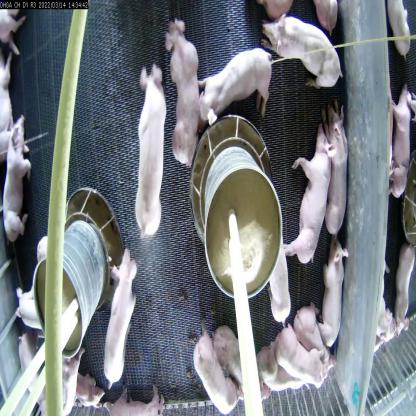Pig: (263, 6, 344, 98), (286, 122, 330, 266), (200, 36, 276, 113), (135, 56, 167, 238), (164, 20, 200, 159), (1, 104, 33, 248), (105, 250, 138, 388), (193, 329, 243, 415), (269, 322, 331, 388), (322, 105, 349, 244), (321, 238, 351, 359), (389, 74, 408, 198)
